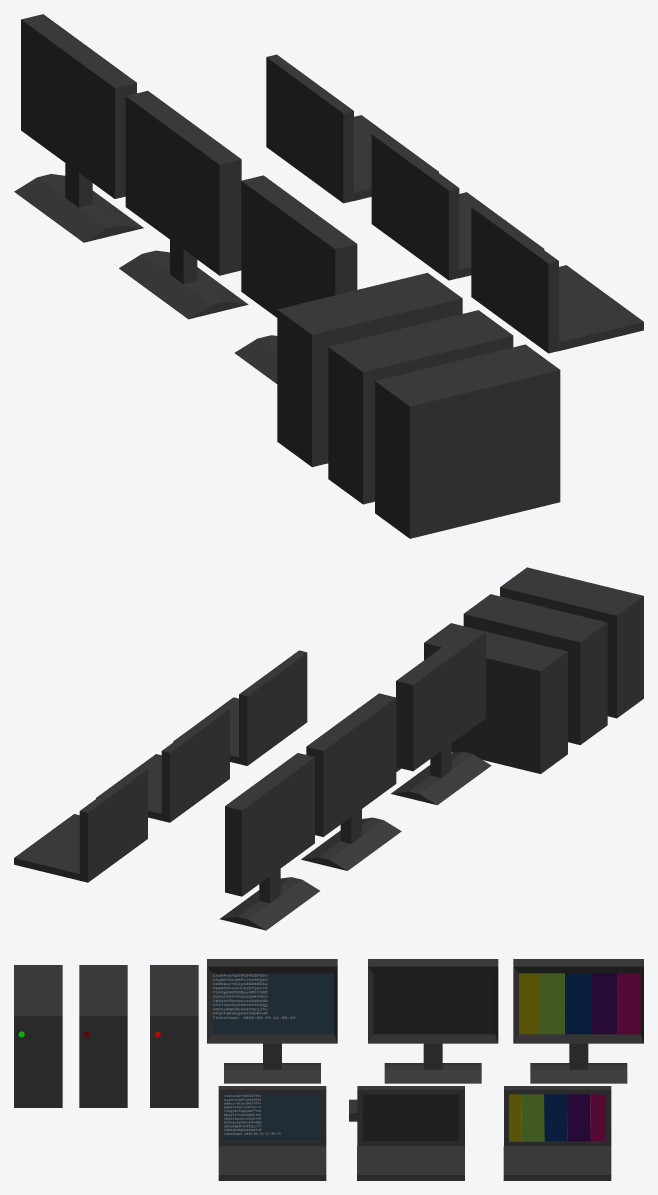
The model's file is computerlaptops.fbx.
The picture shows the model from 3 angles, top to bottom: view 1: azimuth 30°, elevation 25°; view 2: azimuth 150°, elevation 25°; view 3: azimuth 270°, elevation 25°; orthographic projection. The views are drawn at different scales.
Parts seen in each view (by area): view 1: pCube10, pCube8, pCube9, pCube5, pCube11, pCube14, pCube3, pCube16, pCube15; view 2: pCube3, pCube9, pCube5, pCube8, pCube11, pCube10, pCube16, pCube15, pCube14; view 3: pCube8, pCube9, pCube3, pCube14, pCube16, pCube15, pCube5, pCube10, pCube11.
Part boxes in pixels (x1,y1,x2,y2): pCube10: [375, 344, 560, 538]; pCube8: [119, 90, 248, 319]; pCube9: [14, 14, 143, 242]; pCube5: [277, 273, 462, 467]; pCube11: [328, 310, 513, 504]; pCube14: [471, 204, 643, 353]; pCube3: [235, 175, 357, 383]; pCube16: [266, 54, 438, 203]; pCube15: [371, 131, 544, 280]; pCube3: [391, 627, 491, 805]; pCube9: [219, 753, 319, 930]; pCube5: [424, 623, 567, 773]; pCube8: [301, 693, 401, 870]; pCube11: [463, 594, 607, 744]; pCube10: [500, 567, 643, 718]; pCube16: [14, 767, 147, 882]; pCube15: [96, 707, 229, 822]; pCube14: [173, 650, 307, 765]; pCube8: [368, 959, 498, 1083]; pCube9: [513, 959, 643, 1083]; pCube3: [207, 959, 337, 1083]; pCube14: [218, 1086, 326, 1180]; pCube16: [503, 1086, 611, 1180]; pCube15: [357, 1086, 464, 1180]; pCube5: [150, 965, 198, 1107]; pCube10: [14, 965, 62, 1107]; pCube11: [79, 965, 127, 1107].
Size of the model in its own units: 10.2 by 4.6 by 20.99.
